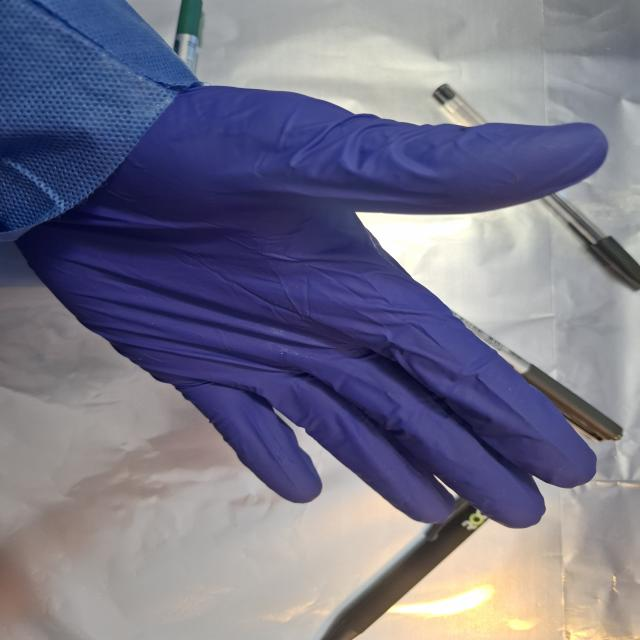glove_on: (13, 80, 614, 530)
